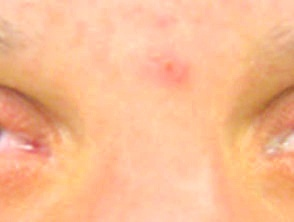SJS-TEN: (63, 5, 197, 87)
